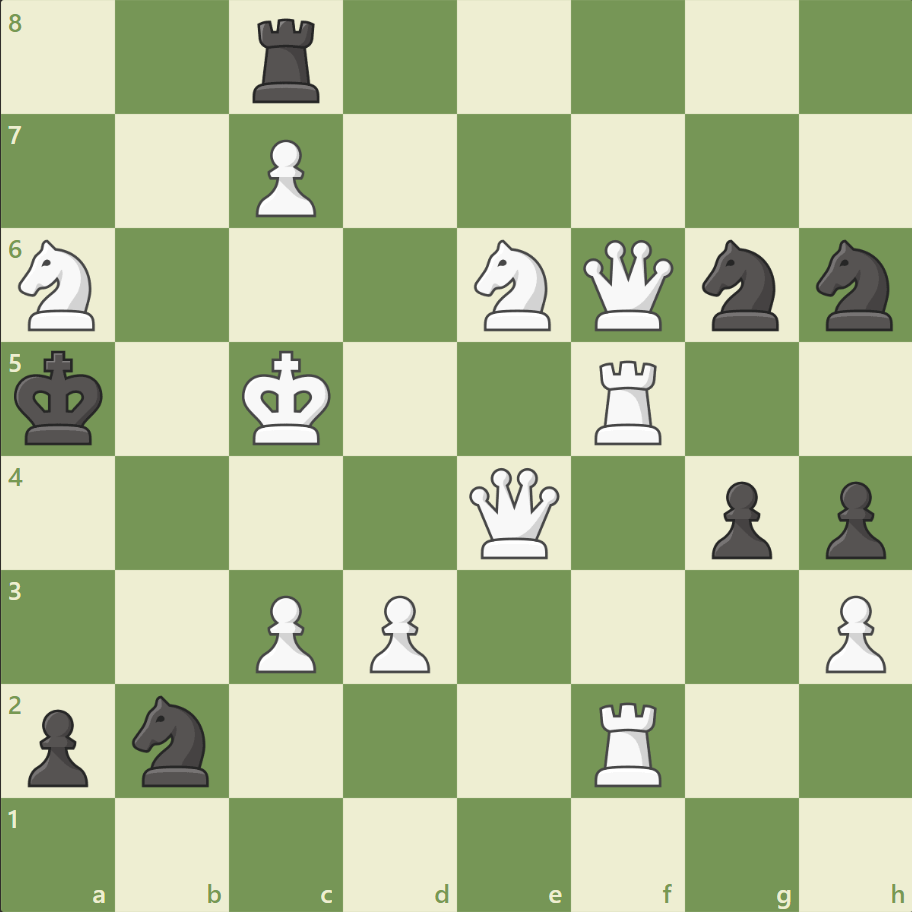K: (238, 344, 338, 452)
N: (11, 234, 108, 337), (465, 234, 562, 337)
P: (247, 132, 322, 223), (247, 586, 322, 677), (361, 586, 435, 677), (815, 586, 889, 677)
Q: (578, 236, 677, 335), (464, 463, 563, 562)
R: (587, 352, 670, 449), (587, 693, 670, 790)
k: (11, 344, 111, 452)
n: (124, 688, 222, 791), (692, 234, 789, 337), (806, 234, 903, 337)
p: (701, 473, 776, 564), (20, 700, 95, 791), (815, 473, 889, 564)
r: (246, 12, 329, 109)
